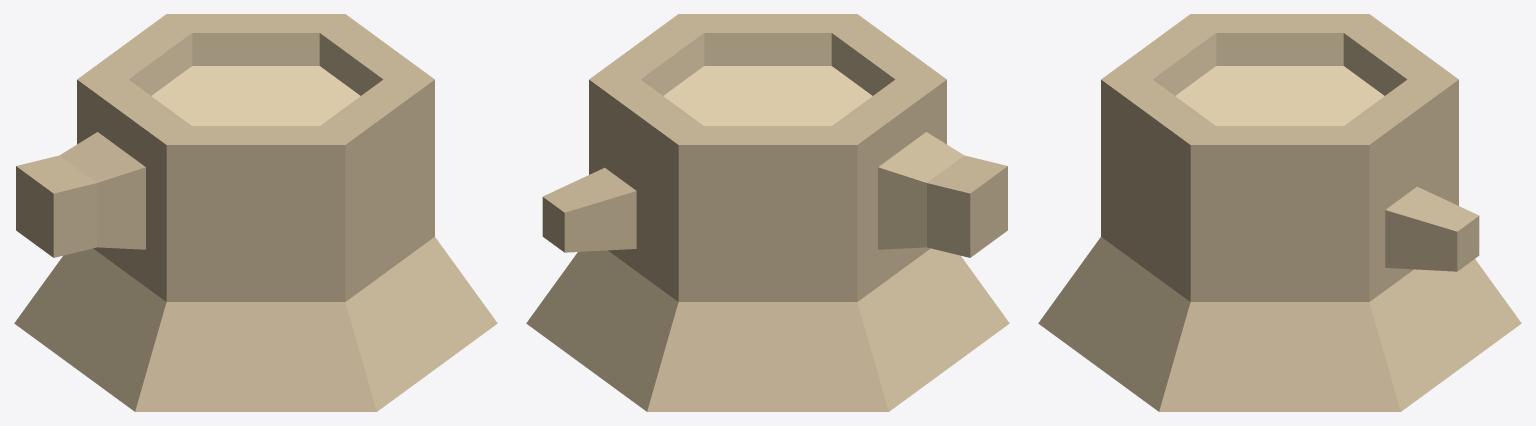
File: Nature Tree Snag 2.fbx
3 renders of one model, left to right at view 1: azimuth 30°, elevation 25°; view 2: azimuth 150°, elevation 25°; view 3: azimuth 270°, elevation 25°, orthographic.
Parts seen in each view (by area): view 1: Nature Tree Snag 2; view 2: Nature Tree Snag 2; view 3: Nature Tree Snag 2.
Part boxes in pixels (<box>): Nature Tree Snag 2: <box>14,14,497,411</box>; Nature Tree Snag 2: <box>526,14,1009,411</box>; Nature Tree Snag 2: <box>1038,14,1521,411</box>.
Size of the model in its own units: 1.02 by 0.59 by 1.06.
